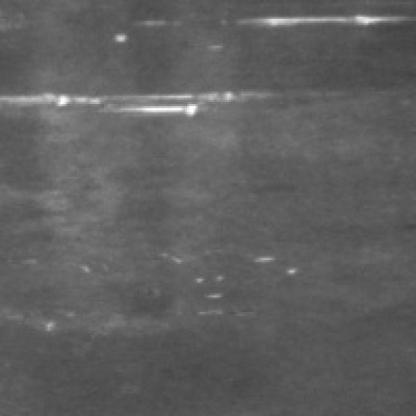scratches: (0, 85, 246, 125), (233, 10, 410, 42)
